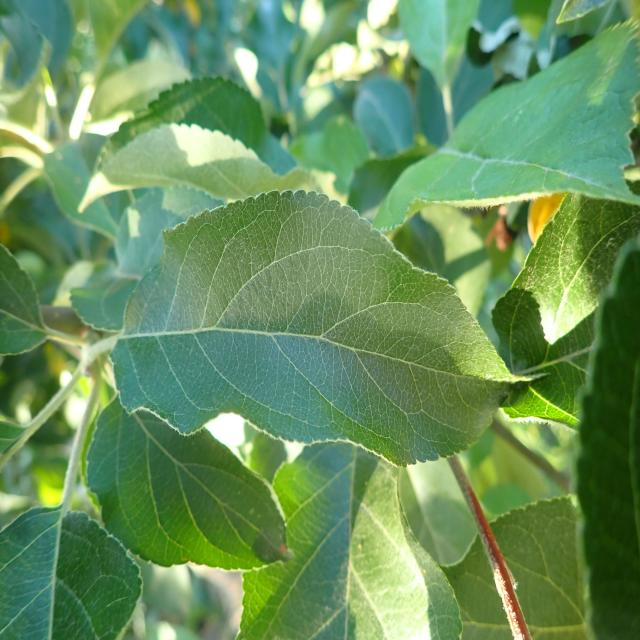healthy: (112, 189, 516, 469), (372, 17, 640, 231), (233, 438, 462, 640), (84, 390, 289, 571), (490, 191, 640, 430), (80, 75, 308, 215), (574, 246, 640, 640), (437, 491, 594, 640), (0, 504, 143, 640), (0, 243, 48, 356)
